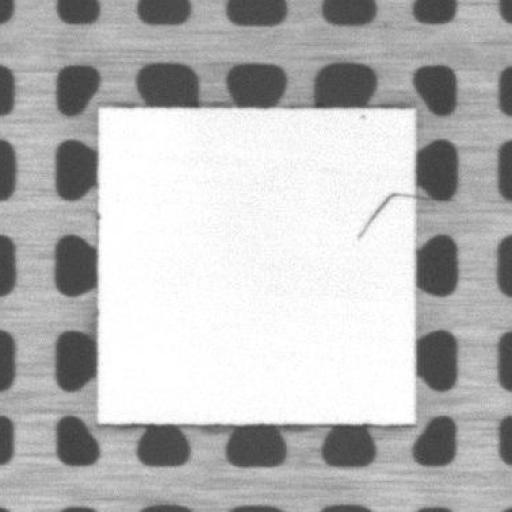DIE_INK: (356, 192, 413, 236)
